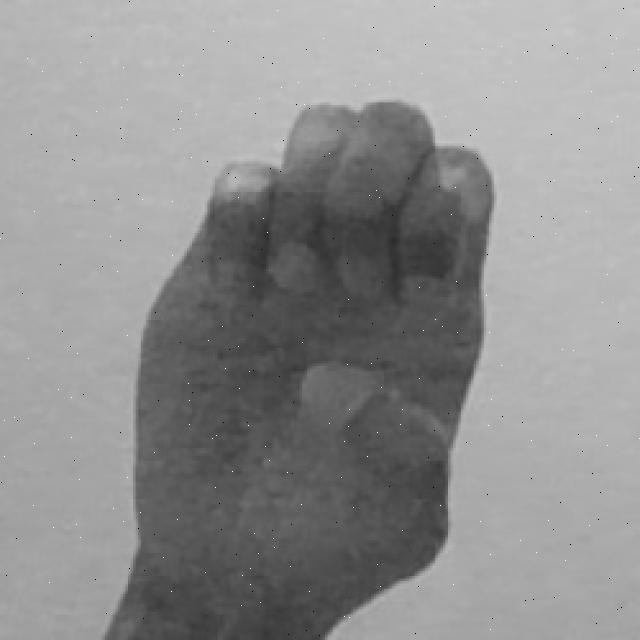E: (108, 97, 494, 640)
